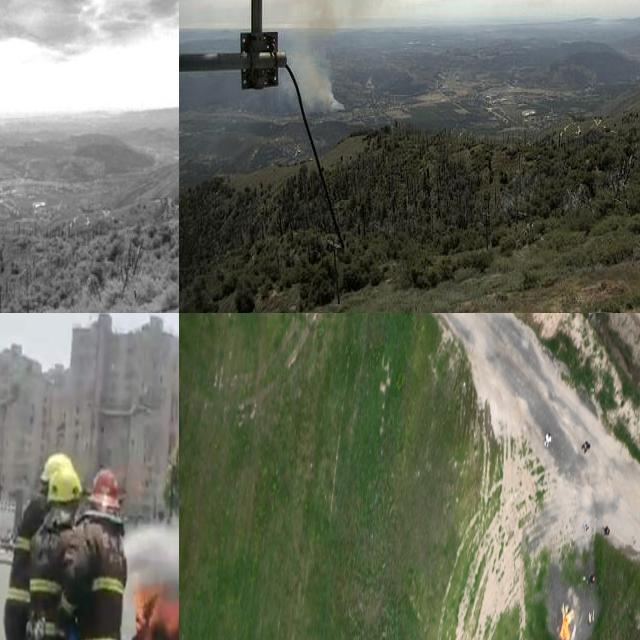fire: (130, 571, 179, 640), (554, 603, 578, 640)
smoke: (123, 355, 179, 566), (274, 0, 357, 115)
